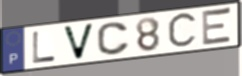8: (135, 16, 161, 52)
C: (166, 10, 199, 51), (95, 21, 132, 57)
E: (201, 6, 234, 48)
L: (31, 30, 57, 64)
V: (60, 22, 96, 62)
